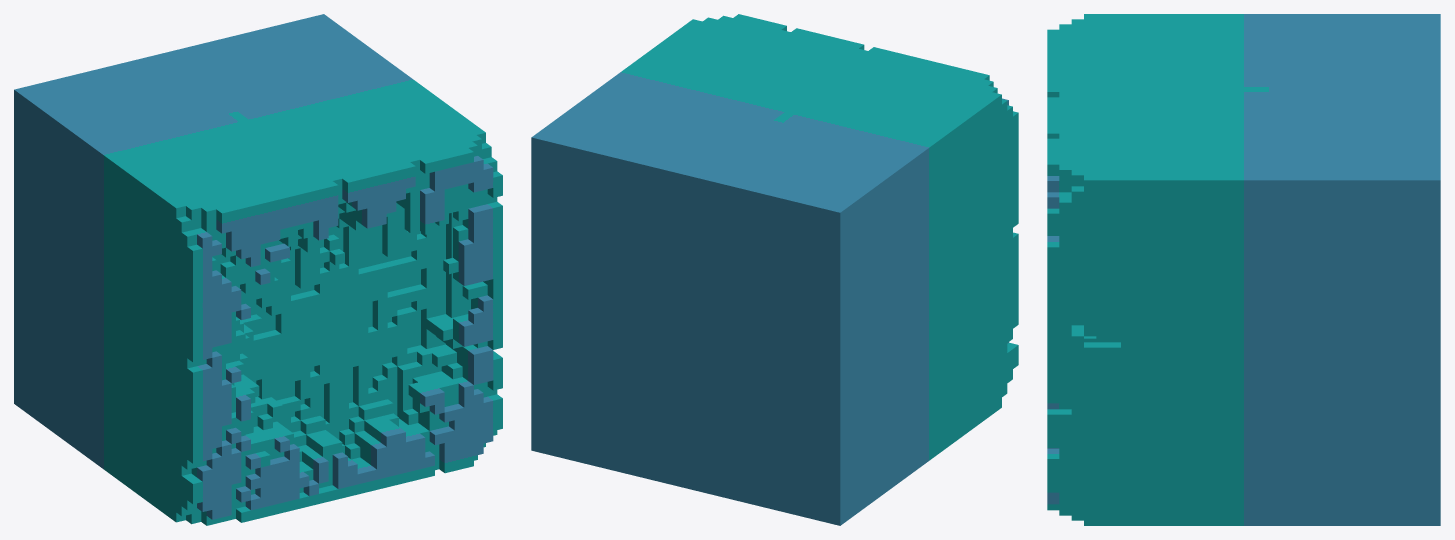
The model's file is block2.glb.
The picture shows the model from 3 angles, left to right: view 1: azimuth 30°, elevation 25°; view 2: azimuth 150°, elevation 25°; view 3: azimuth 270°, elevation 25°; orthographic projection. The views are drawn at different scales.
Parts seen in each view (by area): view 1: pl0; view 2: pl0; view 3: pl0.
Part boxes in pixels (x1,y1,x2,y2): pl0: [14, 14, 502, 525]; pl0: [531, 14, 1018, 525]; pl0: [1047, 14, 1440, 525].
Size of the model in its own units: 3.2 by 3.1 by 3.2.
Materials: 1 (1 with a texture image).
